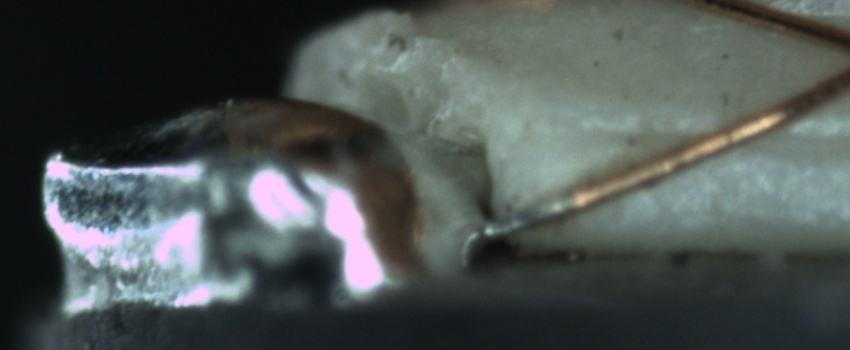DL: (564, 102, 849, 175)
TS: (481, 194, 571, 239)
